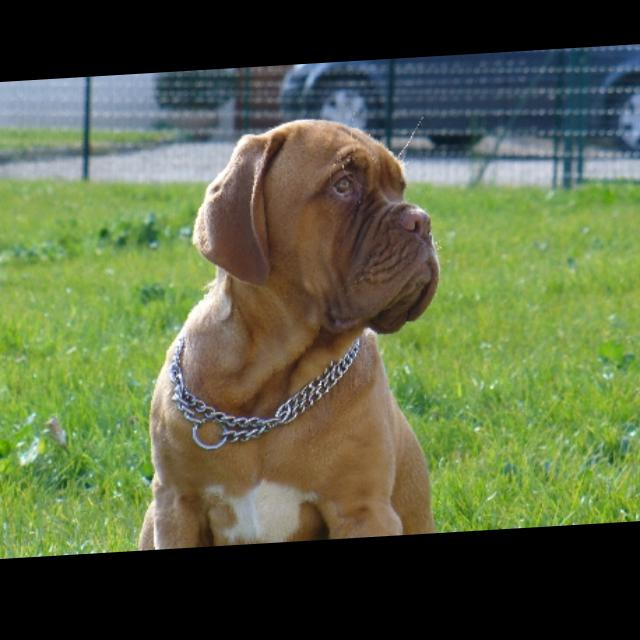dogue_de_bordeaux: (136, 115, 444, 554)
